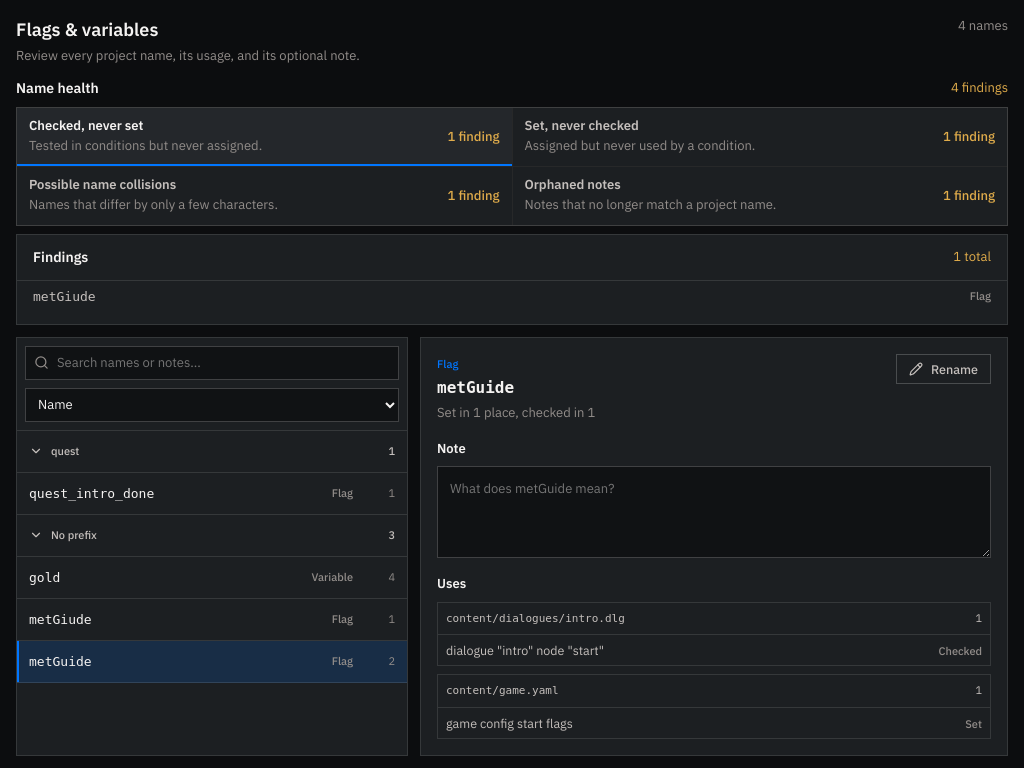
Test: FlagsVariablesPage › deletes an unowned note when notes metadata is writable
Click the button "Orphaned notes" at (760, 196), box [512,166,1007,224]
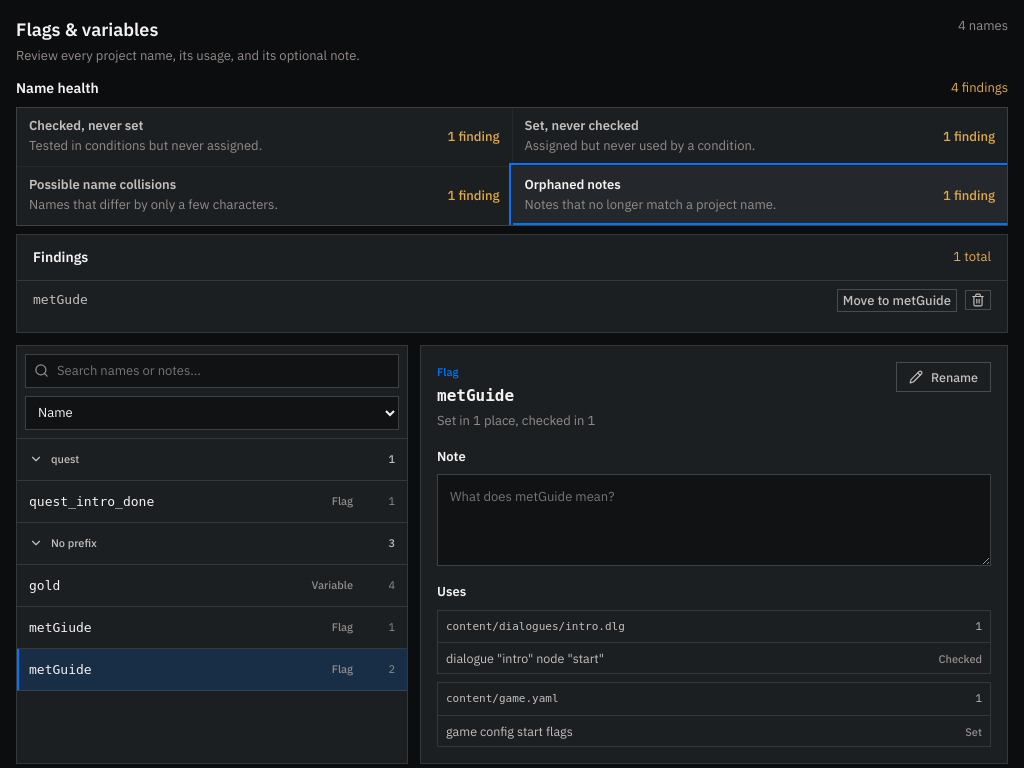
Click the button named "Delete note for metGude" at (978, 300), box [965,290,991,310]
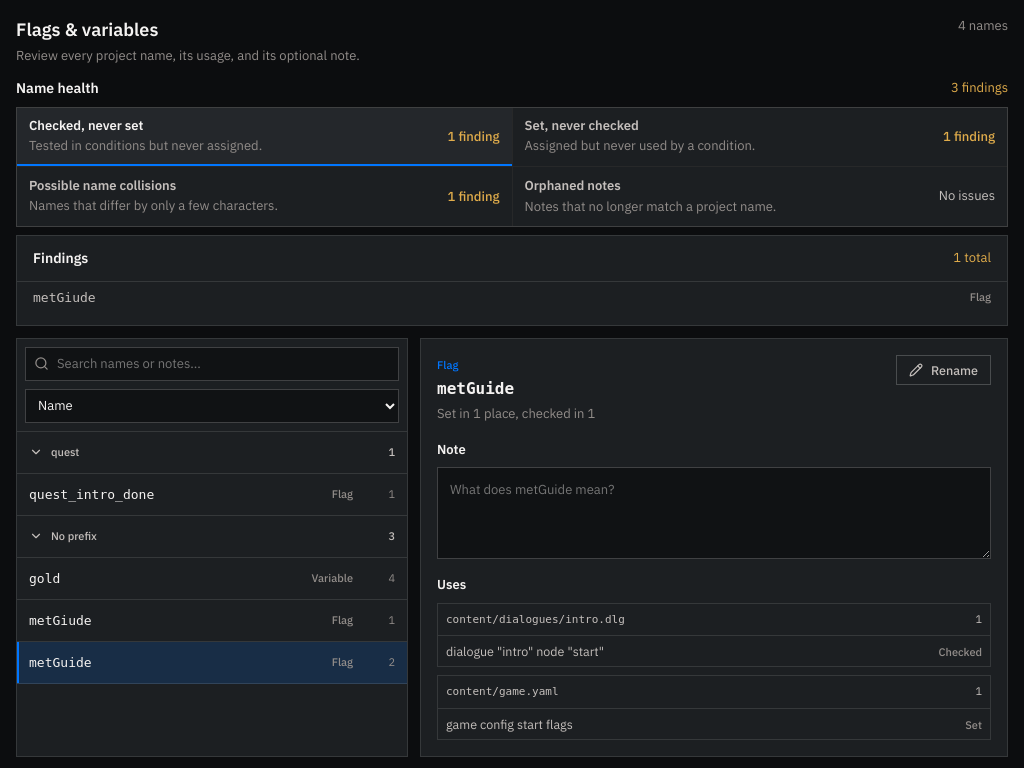
Now the text "metGude" is gone
